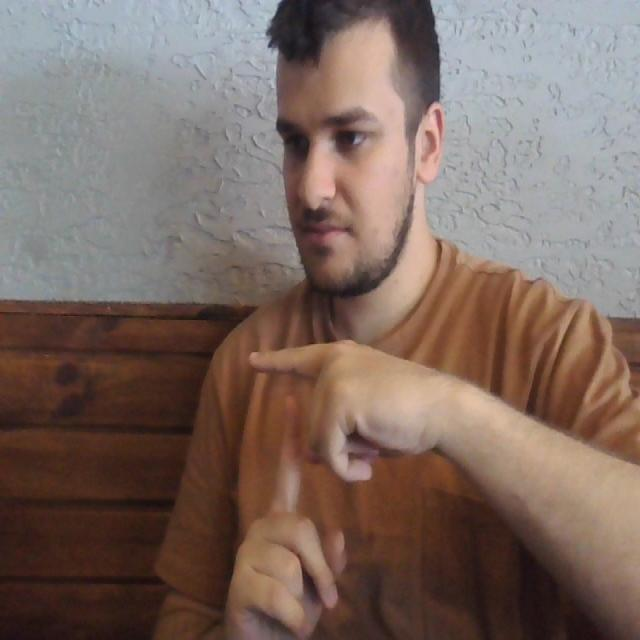Tesekkurler: (241, 342, 327, 534)
